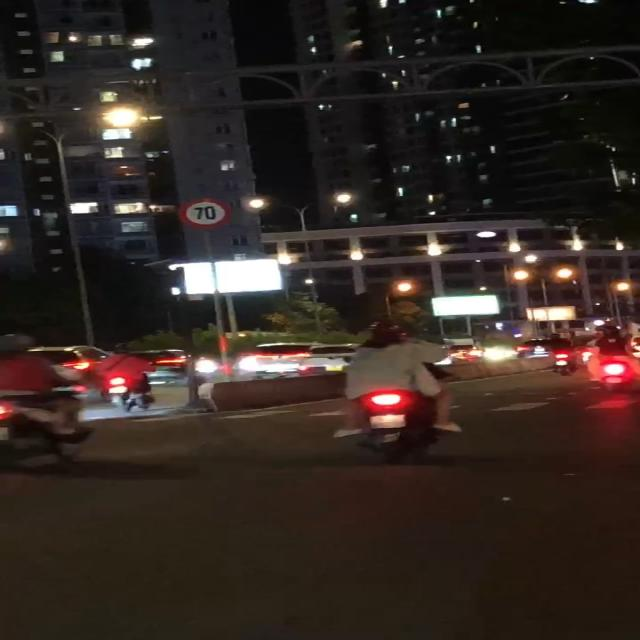Bien bao toc do toi da cho phep: (177, 197, 228, 229)
